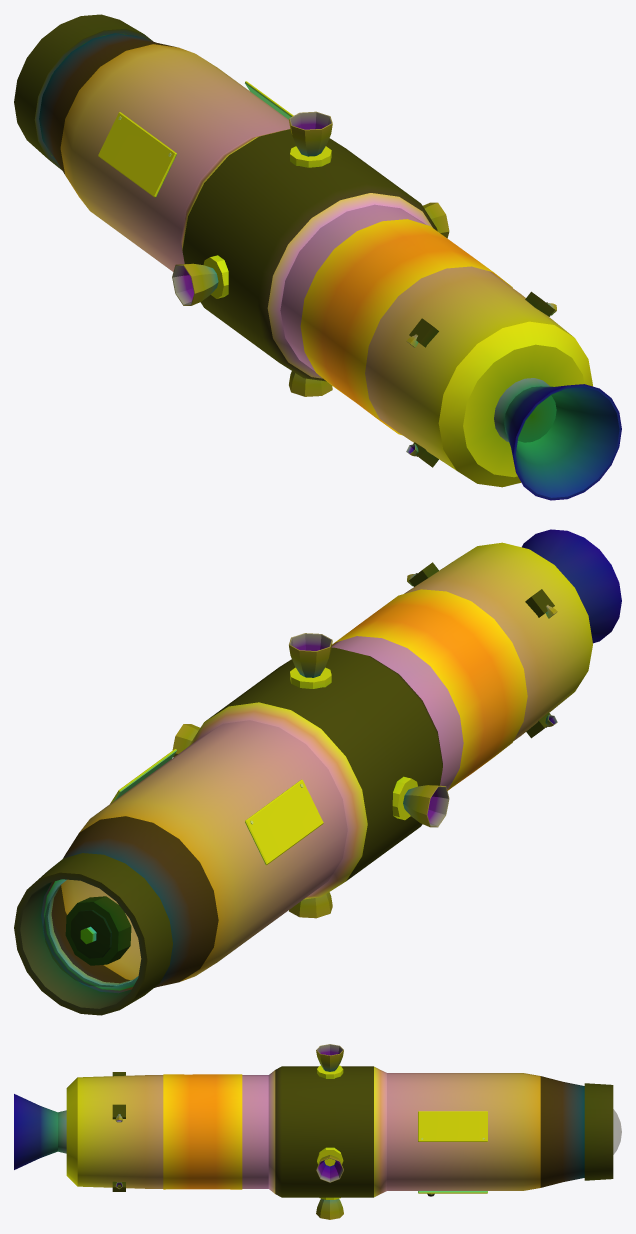
Rendered from kkv.glb.
The picture shows the model from 3 angles, top to bottom: view 1: azimuth 30°, elevation 25°; view 2: azimuth 150°, elevation 25°; view 3: azimuth 270°, elevation 25°; orthographic projection. The views are drawn at different scales.
Visible parts, largest first — view 1: KKV_BODY; view 2: KKV_BODY; view 3: KKV_BODY.
Boxes of the visible parts, x1=… form: KKV_BODY: x1=14, y1=14, x2=621, y2=500; KKV_BODY: x1=14, y1=529, x2=621, y2=1015; KKV_BODY: x1=14, y1=1044, x2=621, y2=1219.
Bounding box in the file's own units: 0.4132 × 0.4132 × 1.38.
